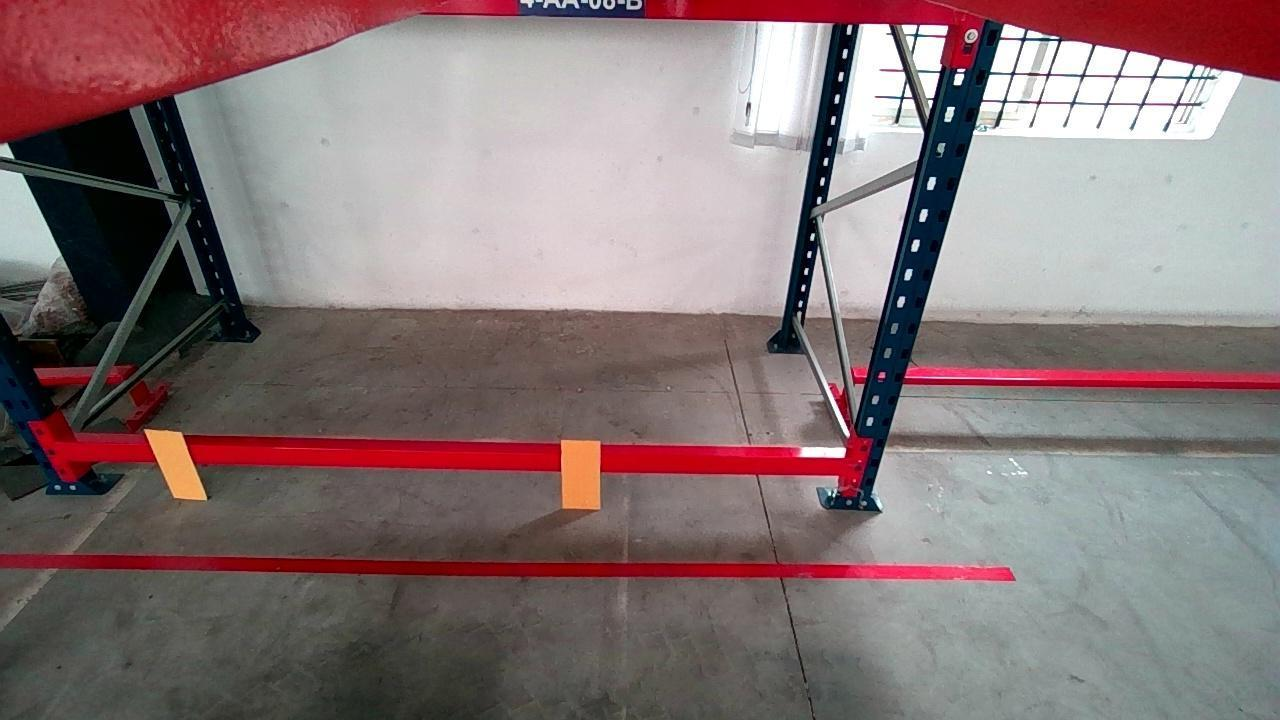h_rack: (59, 446, 848, 476)
orange_strip: (145, 429, 204, 498), (561, 438, 601, 510)
red_line: (1, 553, 1016, 579)
